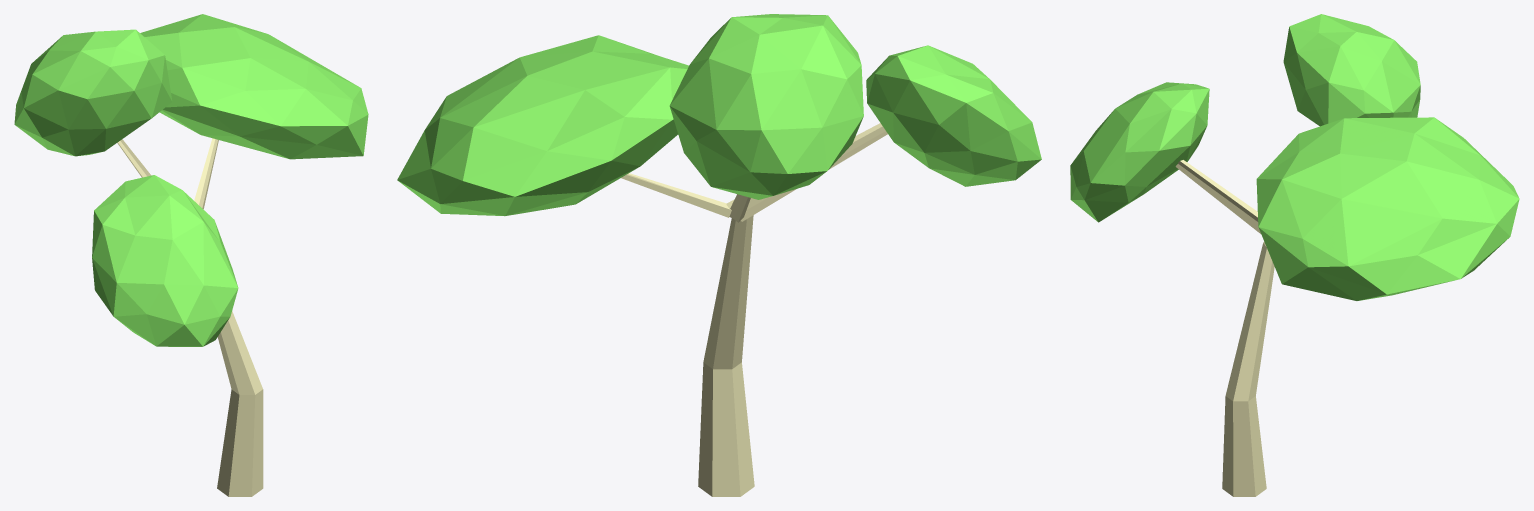
Rendered from eucalyptus_level1.glb.
3 renders of one model, left to right at view 1: azimuth 30°, elevation 25°; view 2: azimuth 150°, elevation 25°; view 3: azimuth 270°, elevation 25°, orthographic. The views are drawn at different scales.
Visible parts, largest first — view 1: 柱体.007; view 2: 柱体.007; view 3: 柱体.007.
Boxes of the visible parts, x1=… form: 柱体.007: x1=14, y1=14, x2=368, y2=496; 柱体.007: x1=397, y1=14, x2=1041, y2=496; 柱体.007: x1=1070, y1=14, x2=1519, y2=496.
Bounding box in the file's own units: 9.3 × 10.51 × 10.22.
